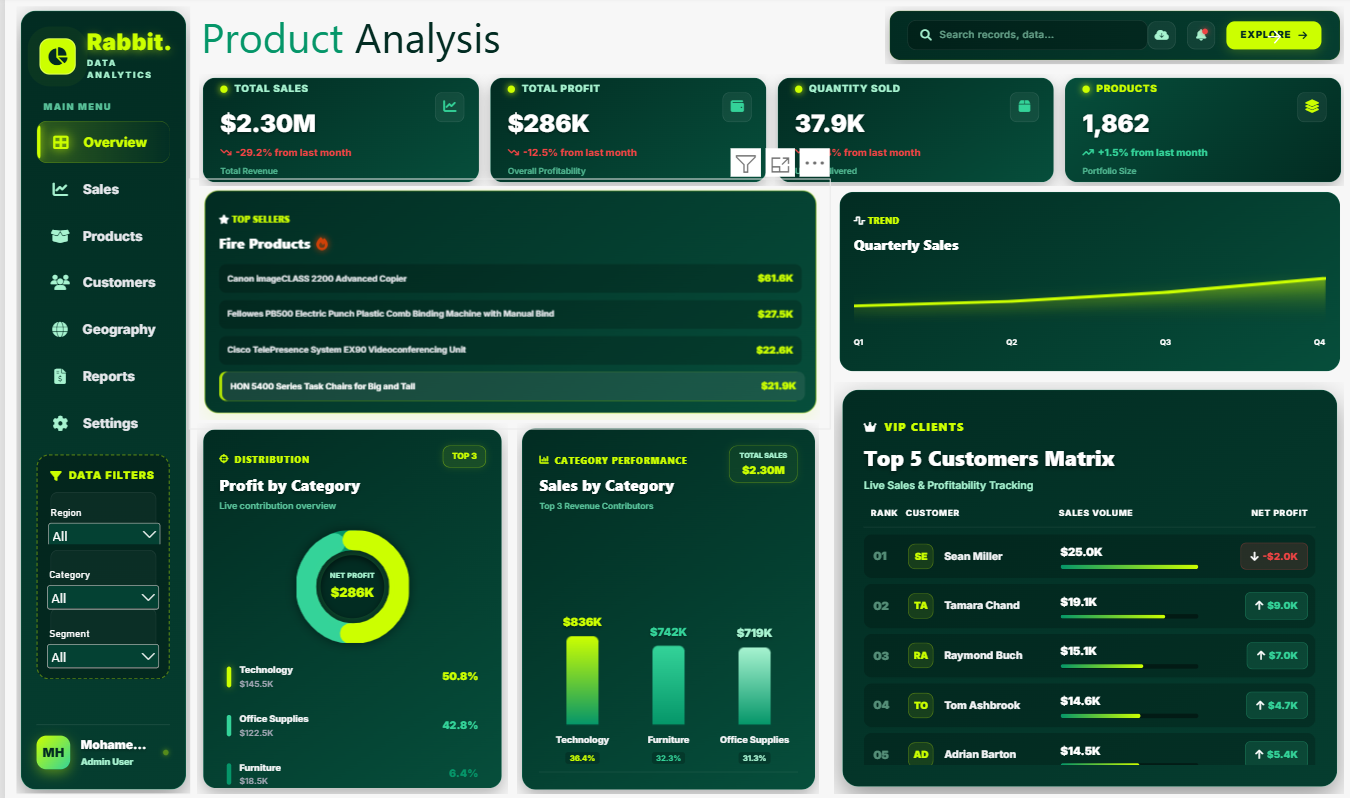

Layout of this report page (visuals, bound fields, positions):
{"tool":"powerbi","page":{"name":"Page 1","canvas":[1920,1150],"ordinal":0},"visuals":[{"type":"htmlContent443BE3AD55E043BF878BED274D3A6855","fields":{"content":["data (2).Top_Navbar_Green"]},"box":[1235.7,0,684.5,112],"z":0},{"type":"htmlContent443BE3AD55E043BF878BED274D3A6855","fields":{"content":["data (2).Sidebar_Rabbit"]},"box":[0,0,279.1,1150.4],"z":1000},{"type":"htmlContent443BE3AD55E043BF878BED274D3A6855","fields":{"content":["data (2).Rabbit_KPI_Cards"]},"box":[261.4,97.8,1658.9,186.7],"z":2000},{"type":"htmlContent443BE3AD55E043BF878BED274D3A6855","fields":{"content":["data (2).Rabbit_Profit_Distribution"]},"box":[257.8,593.8,472.7,556.4],"z":3000},{"type":"htmlContent443BE3AD55E043BF878BED274D3A6855","fields":{"content":["data (2).Rabbit_Sales_Category"]},"box":[713,593.8,460.5,556.4],"z":4000},{"type":"actionButton","box":[1738.9,44.4,131.6,26.7],"z":5000},{"type":"htmlContent443BE3AD55E043BF878BED274D3A6855","fields":{"content":["data (2).Rabbit_VIP_Matrix"]},"box":[1164.6,535.2,755.6,615.2],"z":6000},{"type":"htmlContent443BE3AD55E043BF878BED274D3A6855","fields":{"content":["data (2).Rabbit_Quarterly_Trend"]},"box":[1164.6,257.8,755.6,296.9],"z":7000},{"type":"htmlContent443BE3AD55E043BF878BED274D3A6855","fields":{"content":["data (2).Rabbit_Fire_Products"]},"box":[260.9,258.8,914.1,359],"z":8000},{"type":"textbox","box":[279.1,0,588.5,97.8],"z":9000},{"type":"slicer","fields":{"Values":["Sheet1.Region"]},"box":[56.3,726.3,169,54.3],"z":10000},{"type":"slicer","fields":{"Values":["Sheet1.Category"]},"box":[54.3,813.9,169,58.4],"z":11000},{"type":"slicer","fields":{"Values":["Sheet1.Segment"]},"box":[54.3,897.4,169,58.4],"z":12000}]}

Visuals, with their boxes in screenshot pixels (x1, y1, x2, y2), scaled from the page's 1920x1150 canvas onto the 1350x798 screenshot:
htmlContent443BE3AD55E043BF878BED274D3A6855 - data (2).Top_Navbar_Green: [869,0,1349,78]
htmlContent443BE3AD55E043BF878BED274D3A6855 - data (2).Sidebar_Rabbit: [0,0,196,797]
htmlContent443BE3AD55E043BF878BED274D3A6855 - data (2).Rabbit_KPI_Cards: [184,68,1349,197]
htmlContent443BE3AD55E043BF878BED274D3A6855 - data (2).Rabbit_Profit_Distribution: [181,412,514,797]
htmlContent443BE3AD55E043BF878BED274D3A6855 - data (2).Rabbit_Sales_Category: [501,412,825,797]
actionButton: [1223,31,1315,49]
htmlContent443BE3AD55E043BF878BED274D3A6855 - data (2).Rabbit_VIP_Matrix: [819,371,1349,797]
htmlContent443BE3AD55E043BF878BED274D3A6855 - data (2).Rabbit_Quarterly_Trend: [819,179,1349,385]
htmlContent443BE3AD55E043BF878BED274D3A6855 - data (2).Rabbit_Fire_Products: [183,180,826,429]
textbox: [196,0,610,68]
slicer - Sheet1.Region: [40,504,158,542]
slicer - Sheet1.Category: [38,565,157,605]
slicer - Sheet1.Segment: [38,623,157,663]
